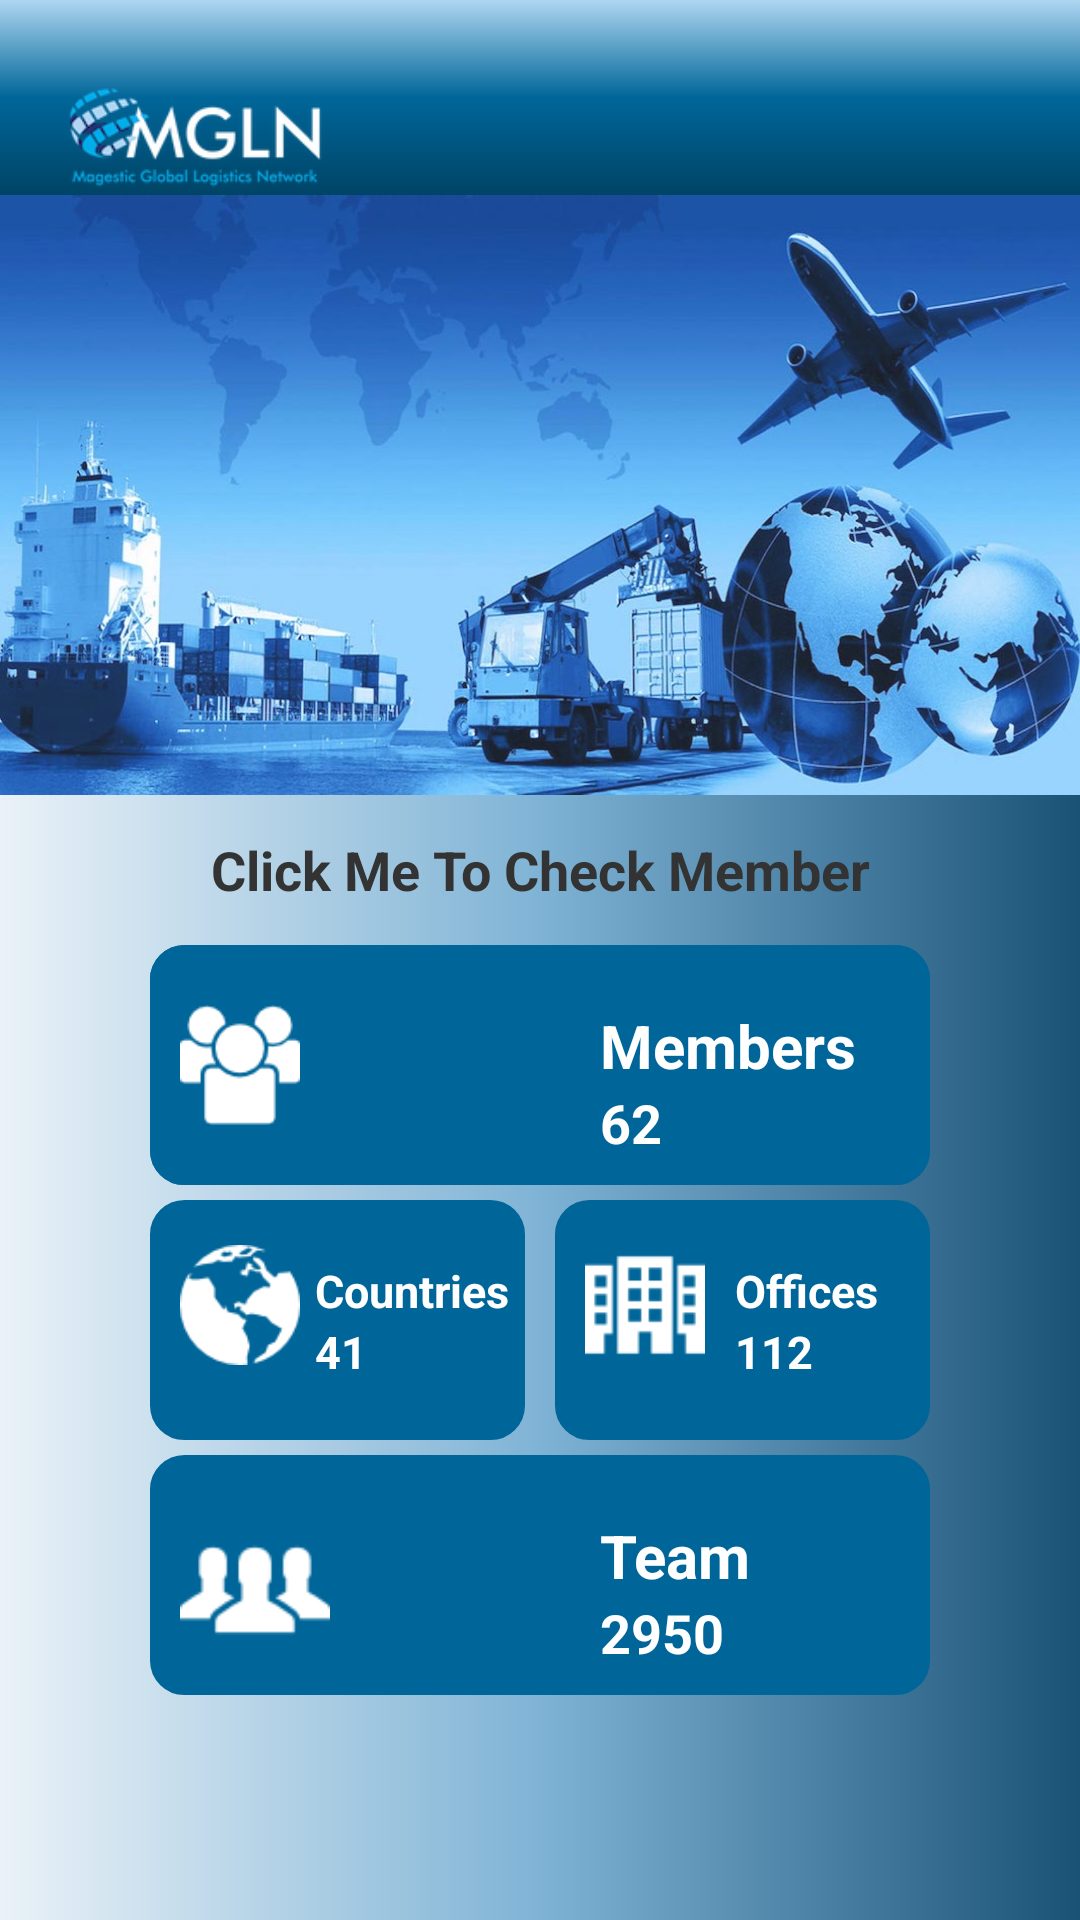

Screen size 1080×1920. Icon name, then its box in pixels as [x1, y1, x2, y2]:
three building: [585, 1256, 705, 1354]
world: [180, 1245, 300, 1365]
